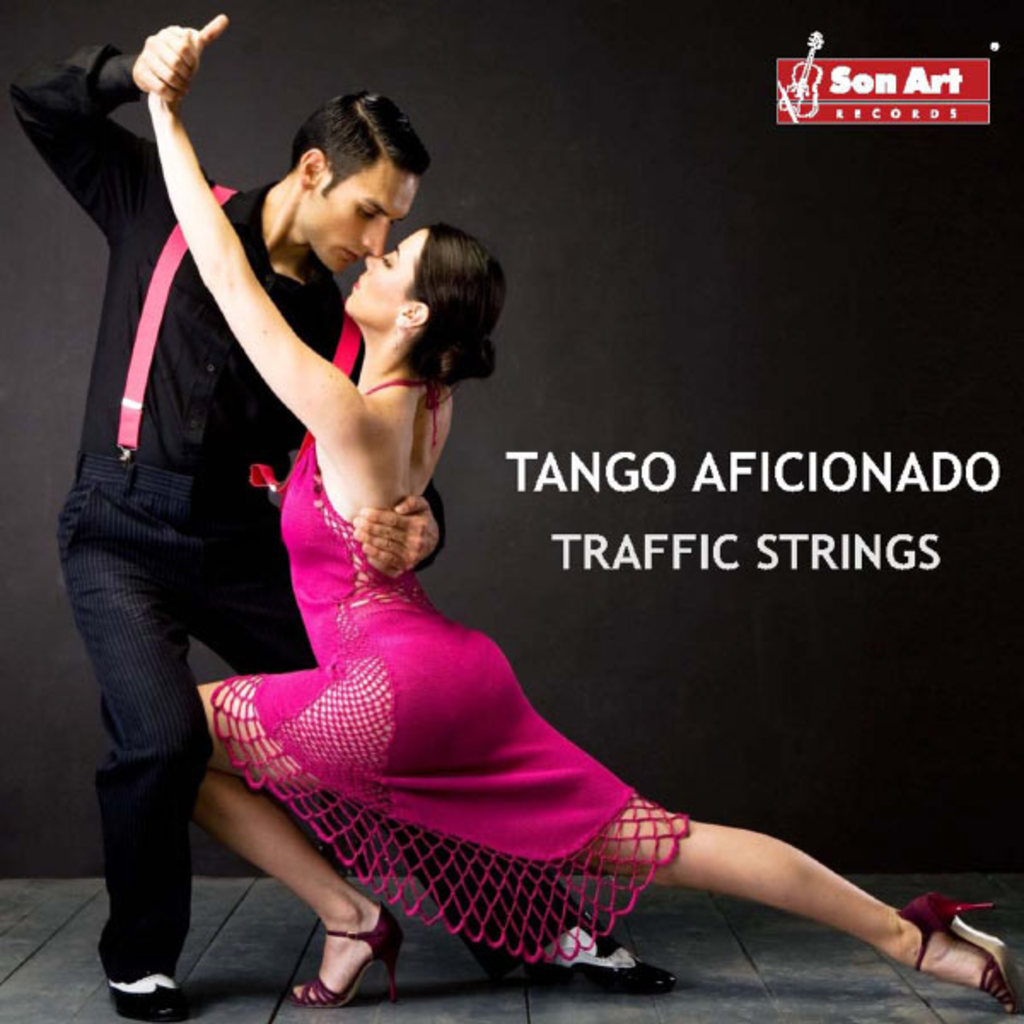Person: (146, 12, 1024, 1016), (8, 13, 677, 1022)
